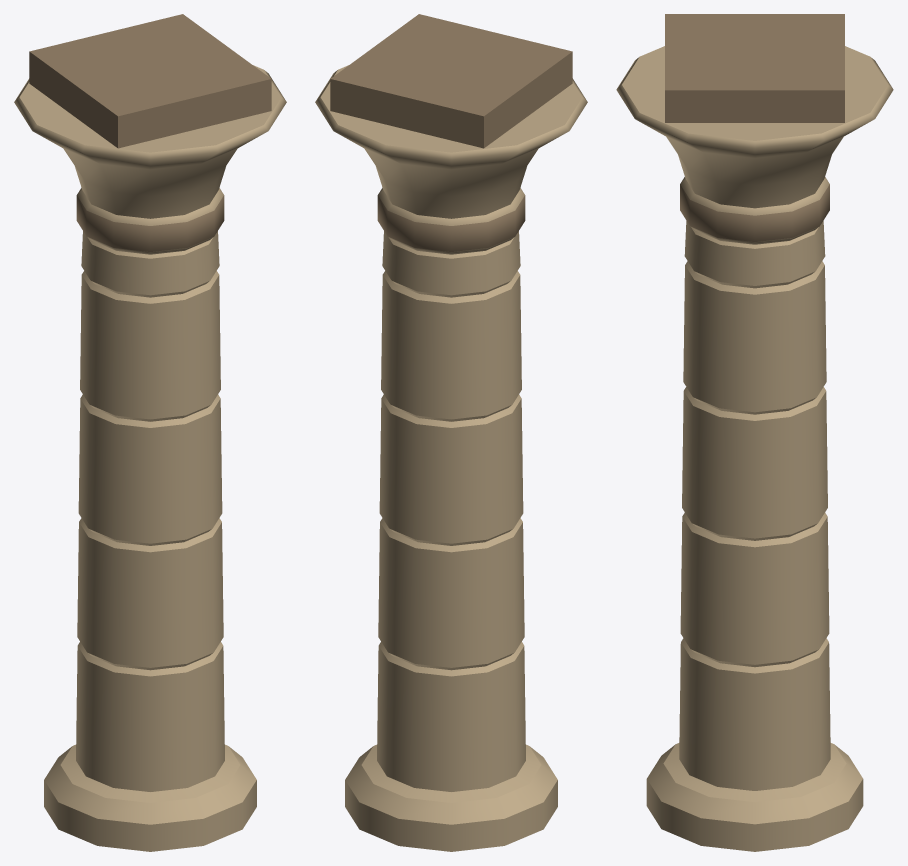
Rendered from column.glb.
The picture shows the model from 3 angles, left to right: view 1: azimuth 30°, elevation 25°; view 2: azimuth 150°, elevation 25°; view 3: azimuth 270°, elevation 25°; orthographic projection.
Visible parts, largest first — view 1: column; view 2: column; view 3: column.
Boxes of the visible parts, <box> form: column: <box>14,14,286,851</box>; column: <box>315,14,587,851</box>; column: <box>616,14,893,851</box>.
Bounding box in the file's own units: 2 × 6 × 2.
